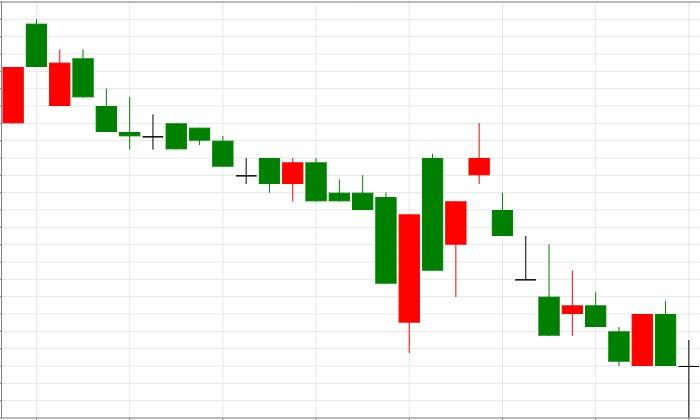bullish_engulfing_rise: (467, 123, 654, 367)
shooting_star_fall: (398, 123, 491, 352)
